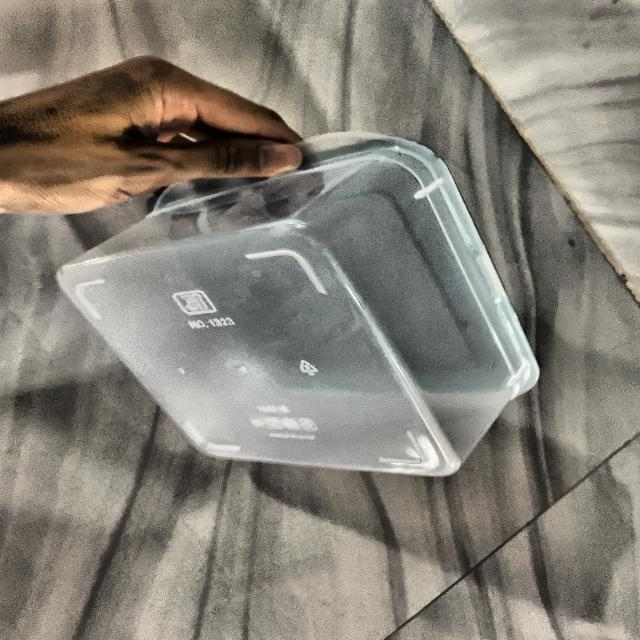plastic container: (68, 118, 540, 497)
